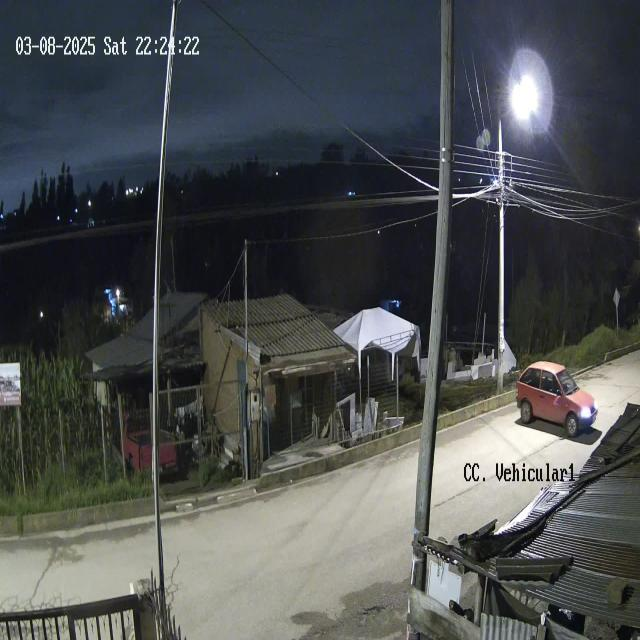SED: (515, 360, 599, 439)
